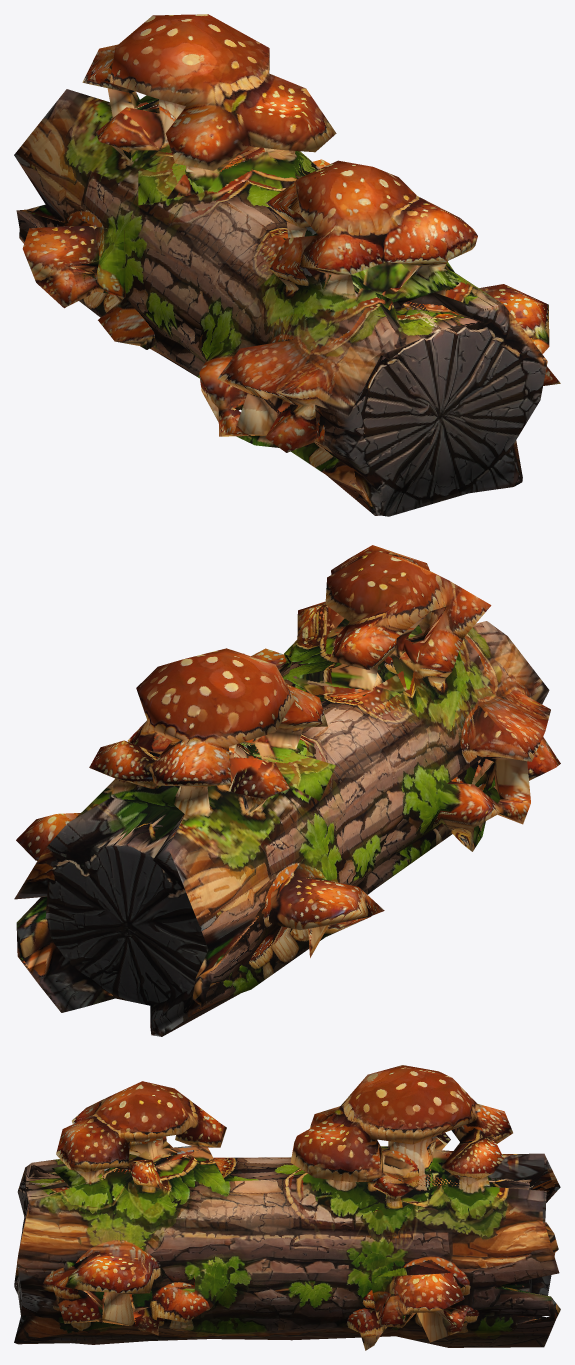
File: Crop_Mushroom_Ready.fbx
The picture shows the model from 3 angles, top to bottom: view 1: azimuth 30°, elevation 25°; view 2: azimuth 150°, elevation 25°; view 3: azimuth 270°, elevation 25°; orthographic projection. The views are drawn at different scales.
Visible parts, largest first — view 1: texture_mapping; view 2: texture_mapping; view 3: texture_mapping.
Boxes of the visible parts, left/top/right/bottom form: texture_mapping: left=14, top=14, right=560, bottom=516; texture_mapping: left=14, top=545, right=560, bottom=1036; texture_mapping: left=14, top=1065, right=560, bottom=1350.
Bounding box in the file's own units: 0.5467 × 0.9796 × 0.4982.
1 material, 1 textured.
